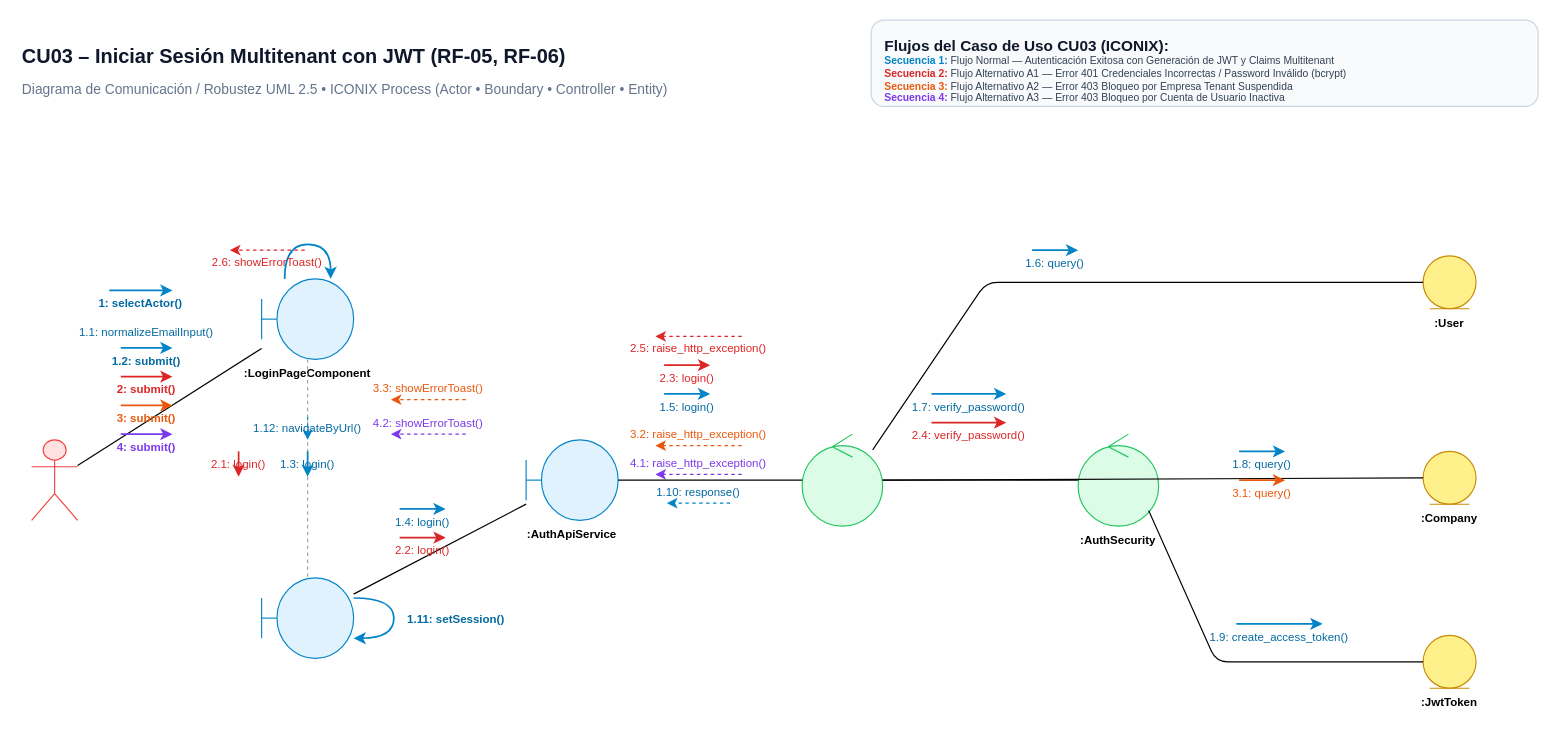
Some shapes in this 1558 by 730 pixel diagram are drawn without their labels. The shapes that lost their labels are listed below. From the top down, each one's centre as x and y in pixels, then its label:
At point 54,479: ":Usuario".
At point 842,479: ":AuthRoutes".
At point 307,617: ":SessionService".
